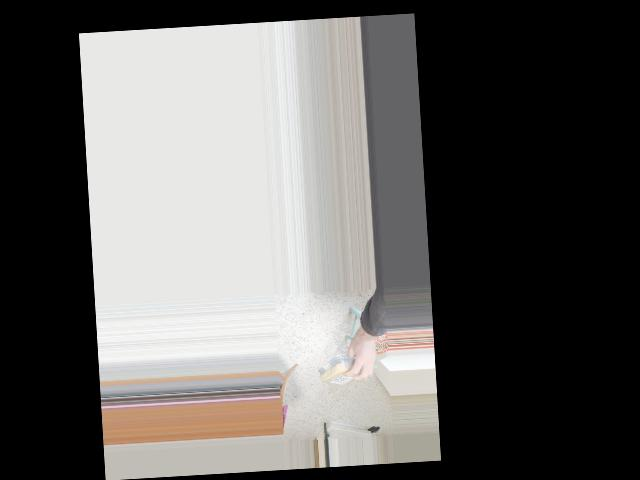cheese: (315, 353, 370, 389)
